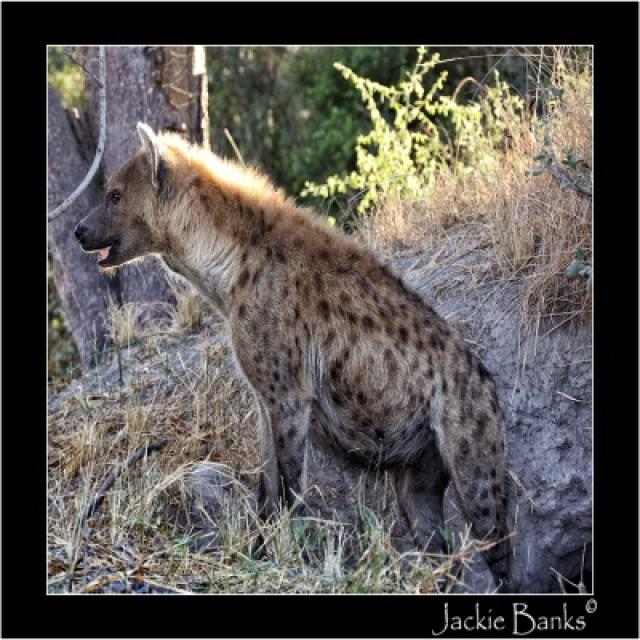hyena: (75, 125, 518, 592)
